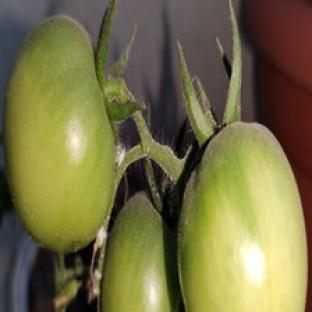Tomato: (5, 16, 114, 252), (179, 122, 307, 311), (101, 193, 179, 311)
